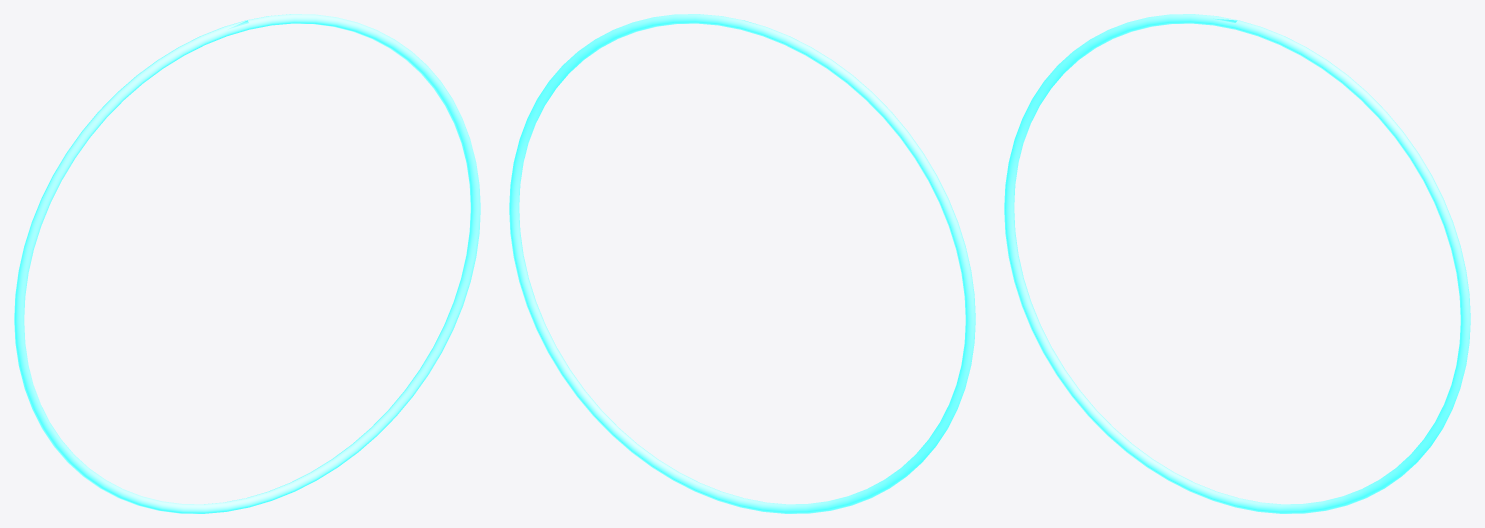
The model's file is WindowLight_mesh.fbx.
3 renders of one model, left to right at view 1: azimuth 30°, elevation 25°; view 2: azimuth 150°, elevation 25°; view 3: azimuth 330°, elevation 25°, orthographic.
Parts seen in each view (by area): view 1: WindowLight_mesh; view 2: WindowLight_mesh; view 3: WindowLight_mesh.
Boxes of the visible parts, x1=… form: WindowLight_mesh: x1=14, y1=14, x2=480, y2=513; WindowLight_mesh: x1=509, y1=14, x2=975, y2=513; WindowLight_mesh: x1=1004, y1=14, x2=1470, y2=513.
Bounding box in the file's own units: 65.2 × 65.2 × 1.26.
